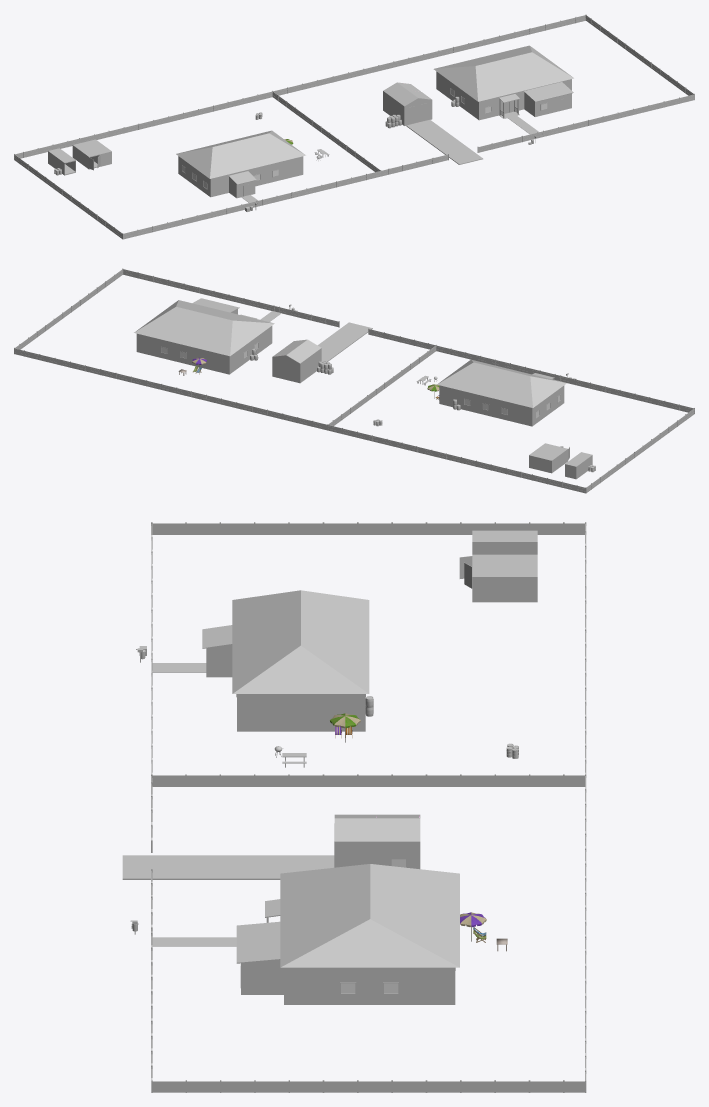
The model's file is HauseHytor12.fbx.
3 views of the same model, one above another, from view 1: azimuth 30°, elevation 25°; view 2: azimuth 150°, elevation 25°; view 3: azimuth 270°, elevation 25° (orthographic). The views are drawn at different scales.
Parts seen in each view (by area): view 1: Zabor.128, Zabor.003, Roof.029, Roof.017, HauseC, HauseH.005, Cube.033, Garaje.002, Container.145, HauseH.001, Roof.028, Container.005; view 2: Zabor.128, Zabor.003, Roof.029, Roof.017, HauseH.005, HauseC, Garaje.002, Cube.033, Container.145, Container.005; view 3: Roof.029, Roof.017, Zabor.128, Zabor.003, HauseH.005, Cube.033, Garaje.002, HauseC, Container.145, Roof.028, Container.005, HauseH.001 (+1 smaller).
Boxes of the visible parts, <box> form: Zabor.128: <box>14,90,381,239</box>; Zabor.003: <box>273,14,694,176</box>; Roof.029: <box>433,45,573,101</box>; Roof.017: <box>176,130,305,178</box>; HauseC: <box>178,156,303,196</box>; HauseH.005: <box>436,71,571,119</box>; Cube.033: <box>406,120,482,164</box>; Garaje.002: <box>383,82,432,125</box>; Container.145: <box>72,139,111,170</box>; HauseH.001: <box>524,92,571,116</box>; Roof.028: <box>523,82,573,102</box>; Container.005: <box>48,148,75,175</box>; Zabor.128: <box>327,344,694,493</box>; Zabor.003: <box>14,268,435,430</box>; Roof.029: <box>134,300,274,356</box>; Roof.017: <box>437,359,566,407</box>; HauseH.005: <box>136,326,272,374</box>; HauseC: <box>439,385,564,426</box>; Garaje.002: <box>272,339,321,382</box>; Cube.033: <box>317,322,372,362</box>; Container.145: <box>529,443,569,473</box>; Container.005: <box>565,452,592,479</box>; Roof.029: <box>280,864,459,967</box>; Roof.017: <box>232,590,369,693</box>; Zabor.128: <box>151,522,586,786</box>; Zabor.003: <box>151,776,586,1092</box>; HauseH.005: <box>284,967,455,1004</box>; Cube.033: <box>122,855,334,879</box>; Garaje.002: <box>334,814,420,869</box>; HauseC: <box>236,694,365,731</box>; Container.145: <box>459,554,537,602</box>; Roof.028: <box>236,921,280,963</box>; Container.005: <box>472,530,537,554</box>; HauseH.001: <box>240,960,283,994</box>.
Size of the model in its own units: 12327 by 721 by 4328.
